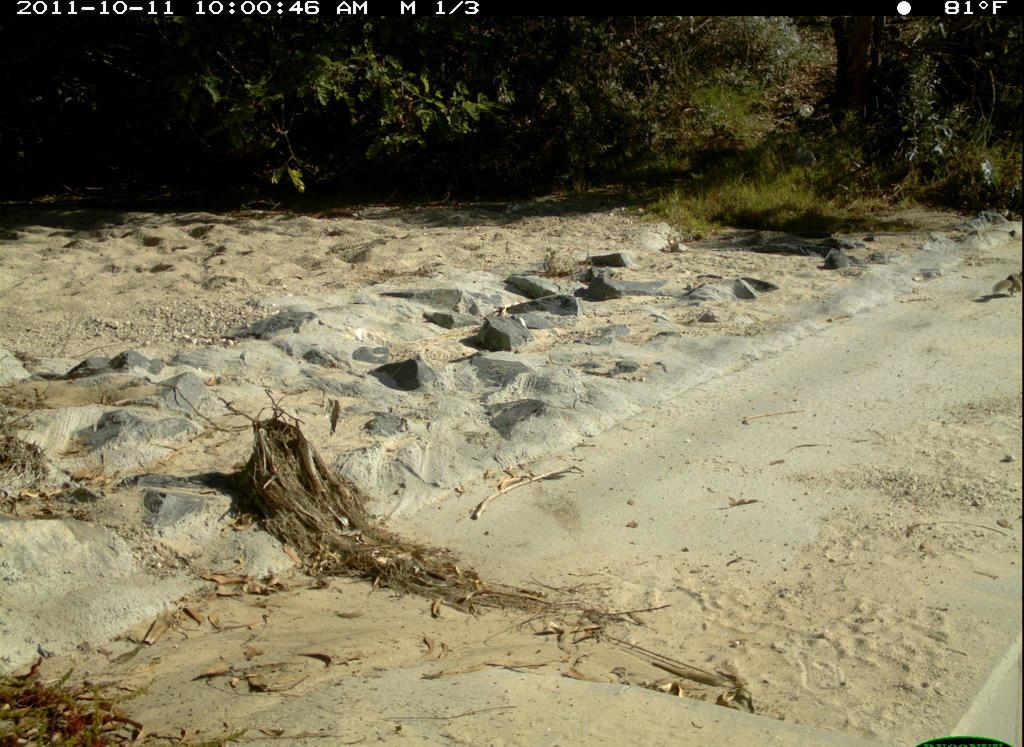squirrel: (991, 258, 1023, 299)
